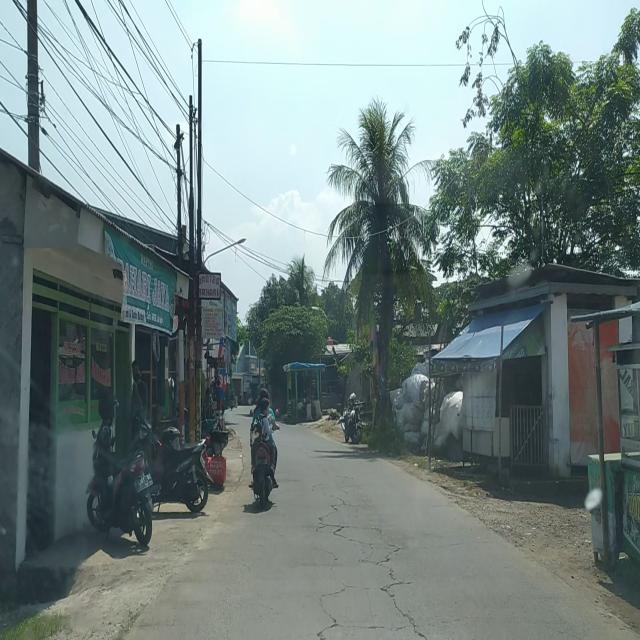Drain Hole: (308, 500, 422, 640)
